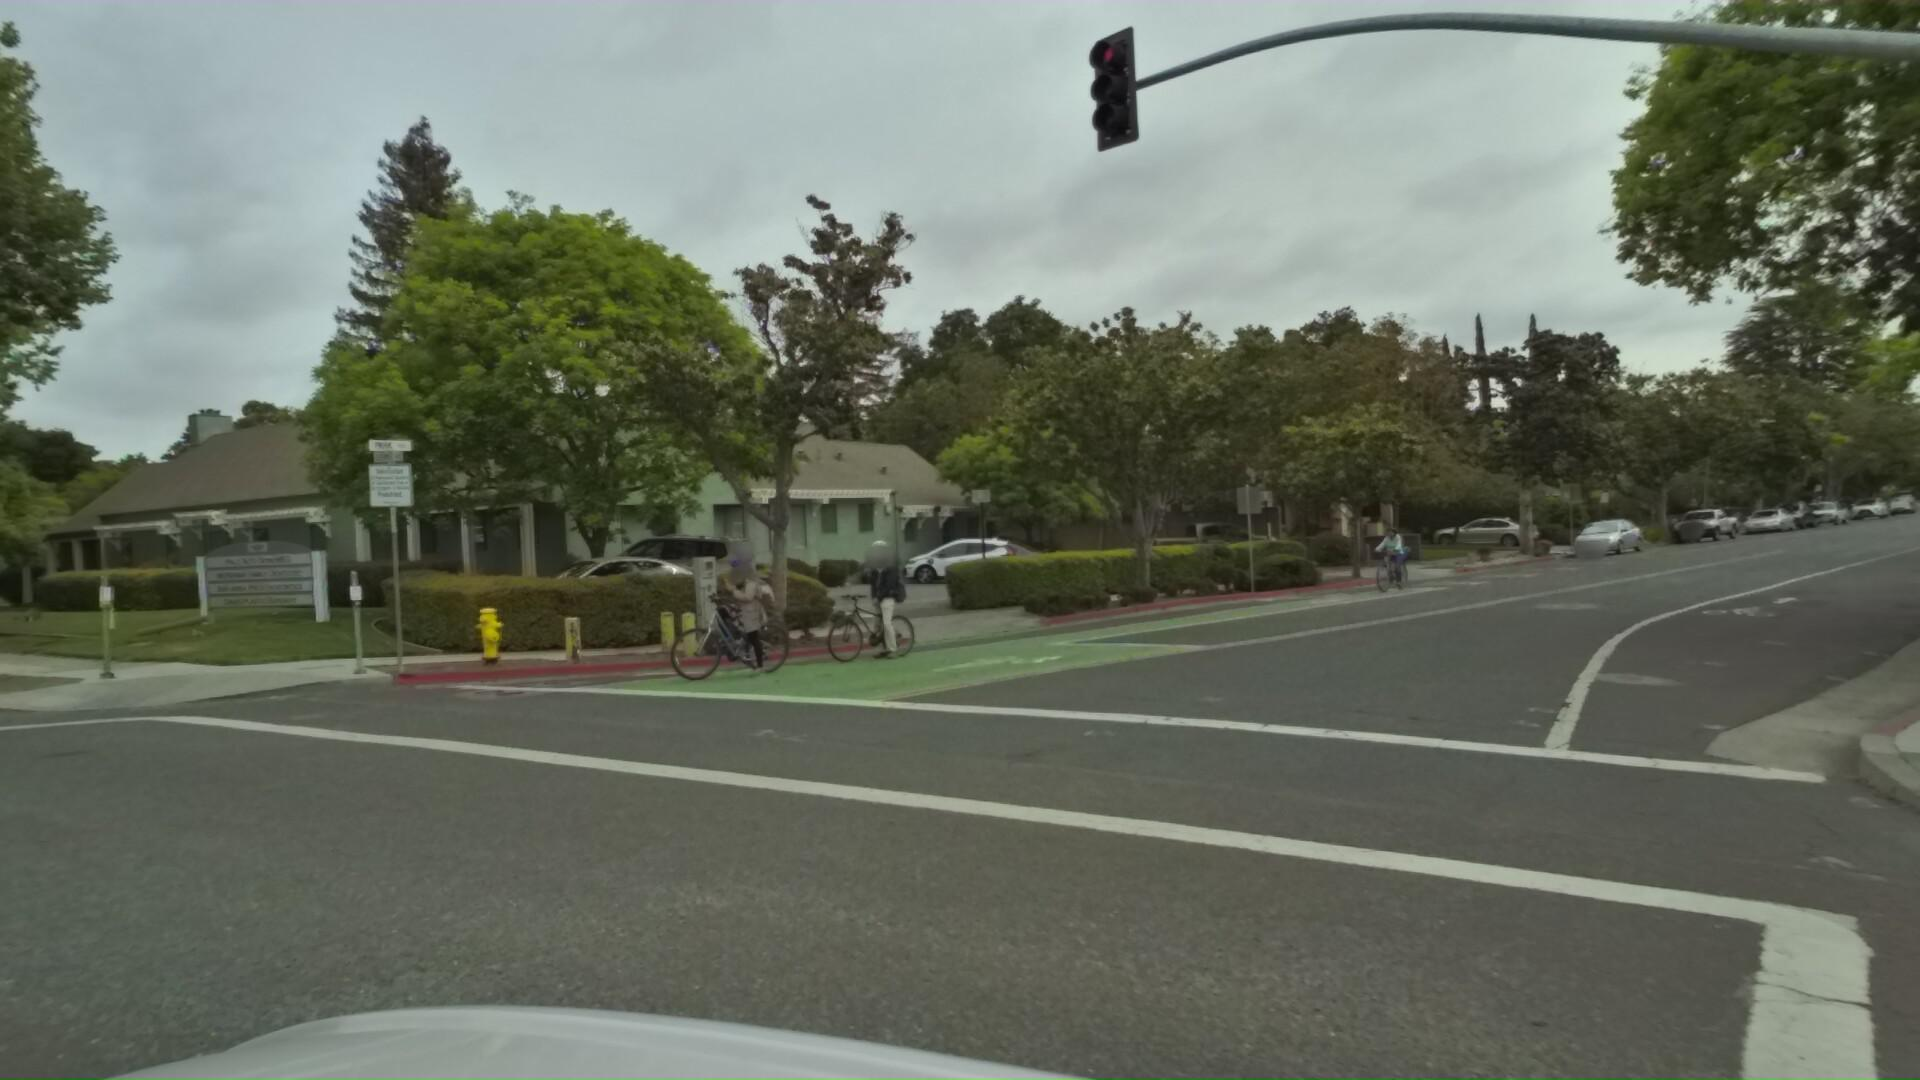bicycle: (678, 541, 841, 690), (828, 527, 953, 667), (1374, 518, 1443, 589)
car: (476, 541, 733, 636), (562, 522, 779, 597), (1147, 512, 1294, 564), (907, 527, 1029, 585), (1577, 509, 1655, 555), (1675, 498, 1747, 538), (1753, 502, 1792, 527)
